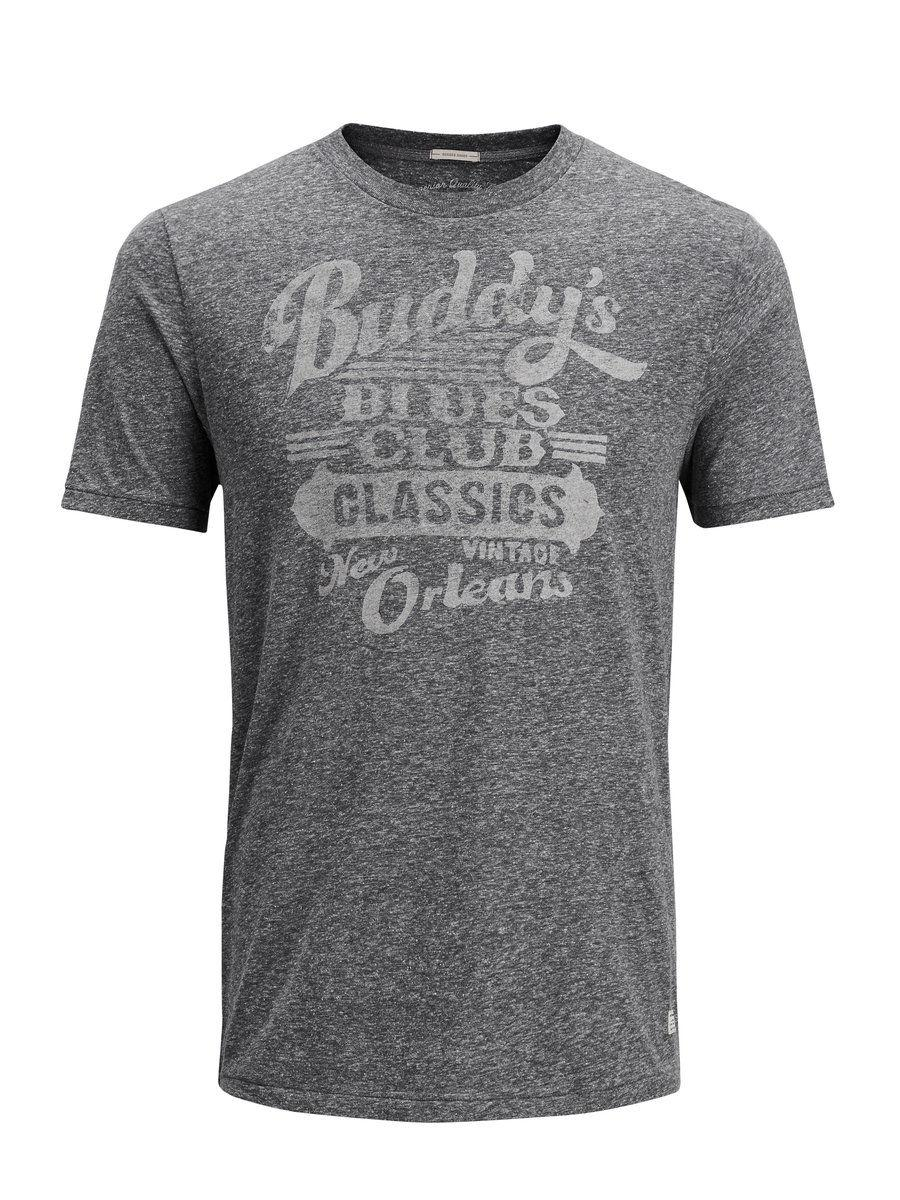teeshirt: (43, 118, 876, 1154)
